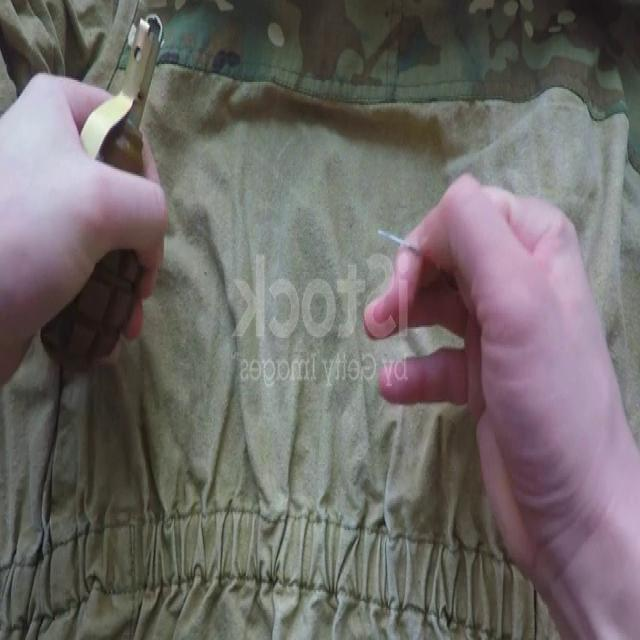grenade: (39, 8, 159, 362)
